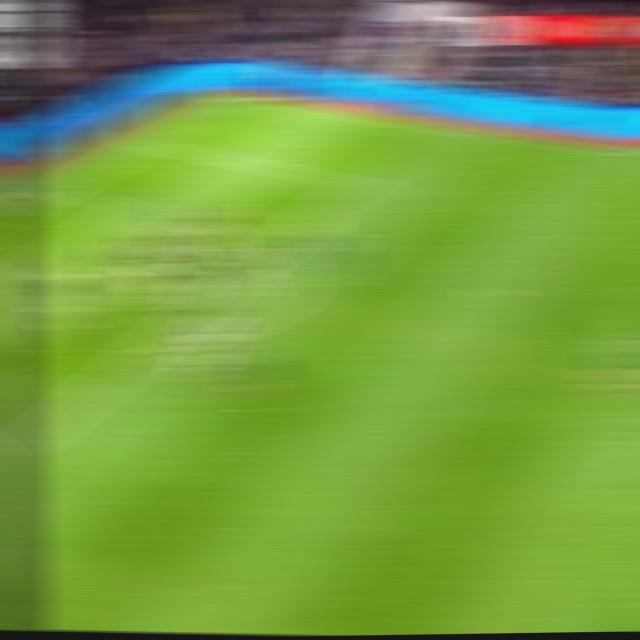bigarea_top_inner: (340, 174, 376, 189)
bigarea_top_outter: (134, 138, 165, 148)
bottom_arc_area_intersection: (127, 338, 167, 360)
corner: (222, 92, 256, 100)
smallarea_top_inner: (111, 199, 146, 214)
smallarea_top_outter: (41, 184, 75, 199)
top_arc_area_intersection: (259, 239, 294, 255)
